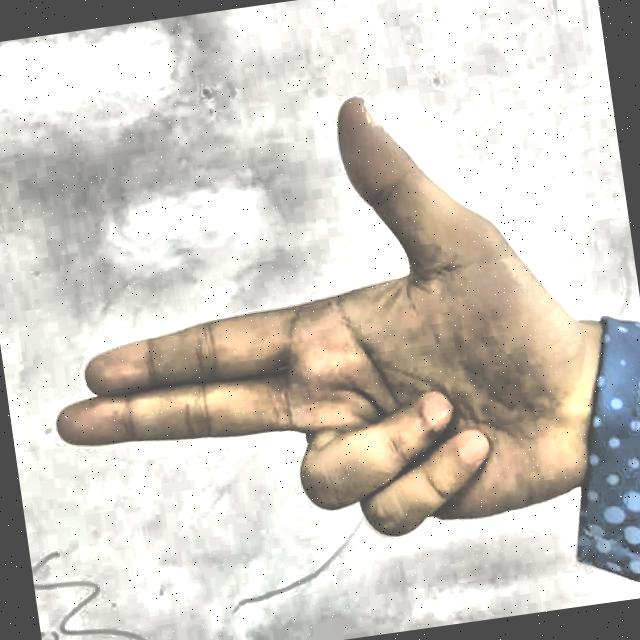Jha: (7, 36, 636, 640)
